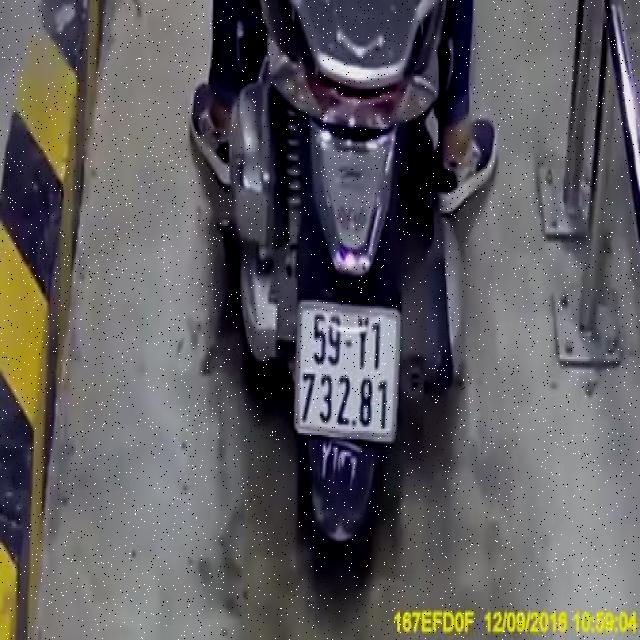1: (376, 379, 390, 433), (371, 314, 382, 370)
2: (335, 372, 352, 424)
3: (318, 372, 333, 428)
5: (313, 313, 326, 362)
7: (302, 367, 315, 422)
8: (359, 375, 374, 429)
9: (328, 315, 342, 366)
Y: (355, 316, 374, 371)
